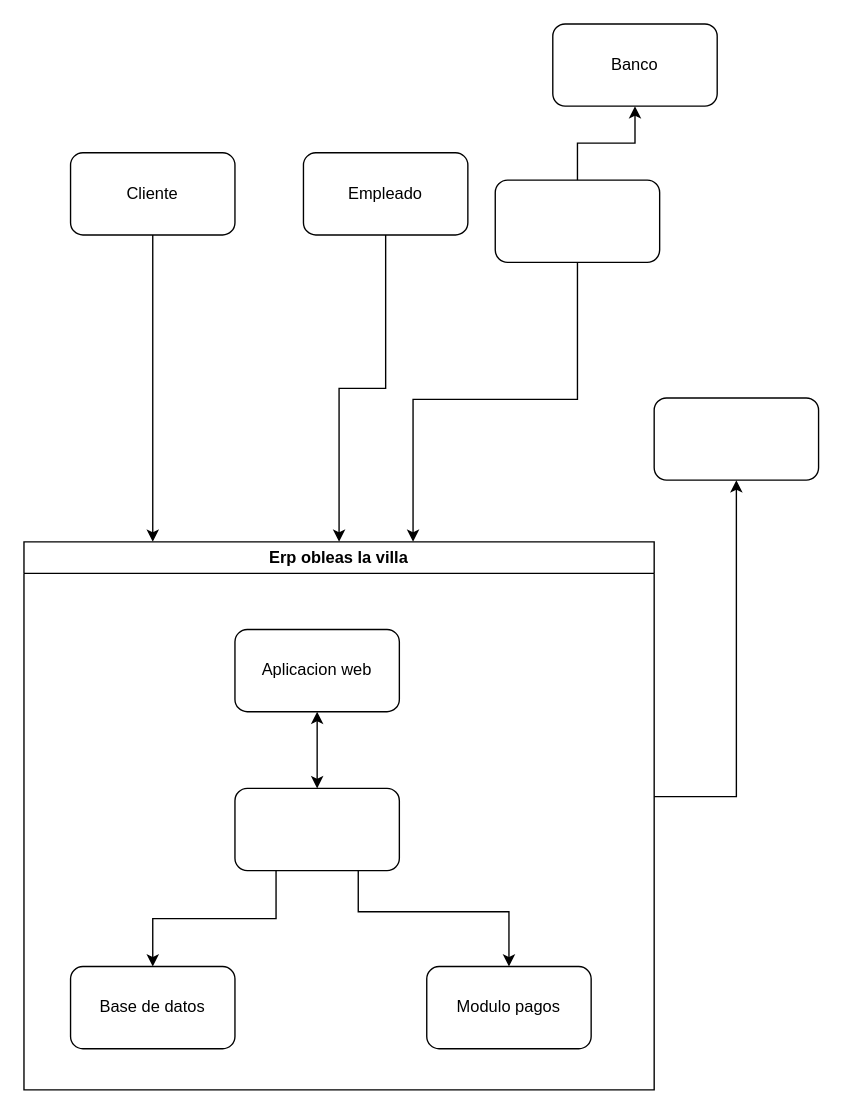
The diagram is 843 pixels wide and 1114 high, and some of its shapes have lost their labels. Each missing label, with the centre of its shape:
Admin: (x=577, y=220)
Backend(Python): (x=316, y=829)
Proveedor: (x=736, y=438)
